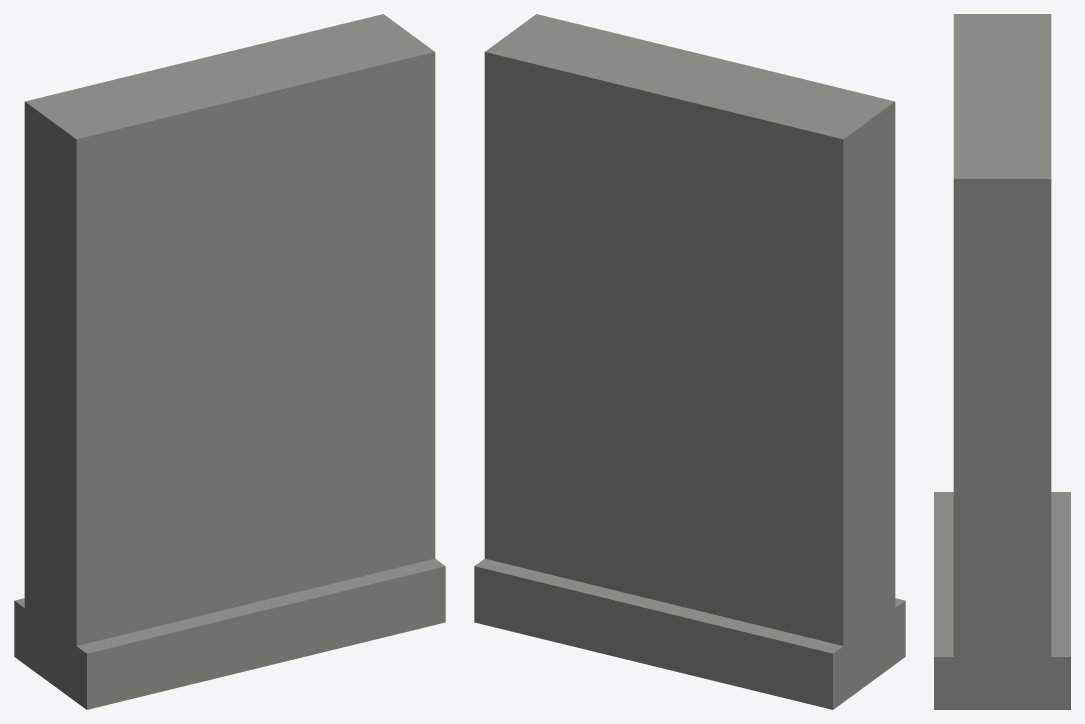
The model's file is concrete_barrier_lod1.glb.
3 renders of one model, left to right at view 1: azimuth 30°, elevation 25°; view 2: azimuth 150°, elevation 25°; view 3: azimuth 270°, elevation 25°, orthographic. The views are drawn at different scales.
Visible parts, largest first — view 1: concrete_barrier_lod1; view 2: concrete_barrier_lod1; view 3: concrete_barrier_lod1.
Boxes of the visible parts, x1,y1,x2,y2 form: concrete_barrier_lod1: (14,14,445,709); concrete_barrier_lod1: (474,14,905,709); concrete_barrier_lod1: (934,14,1070,709).
Size of what is drawn, in the model's own units: 2 by 3 by 0.7.
1 material, 1 textured.
